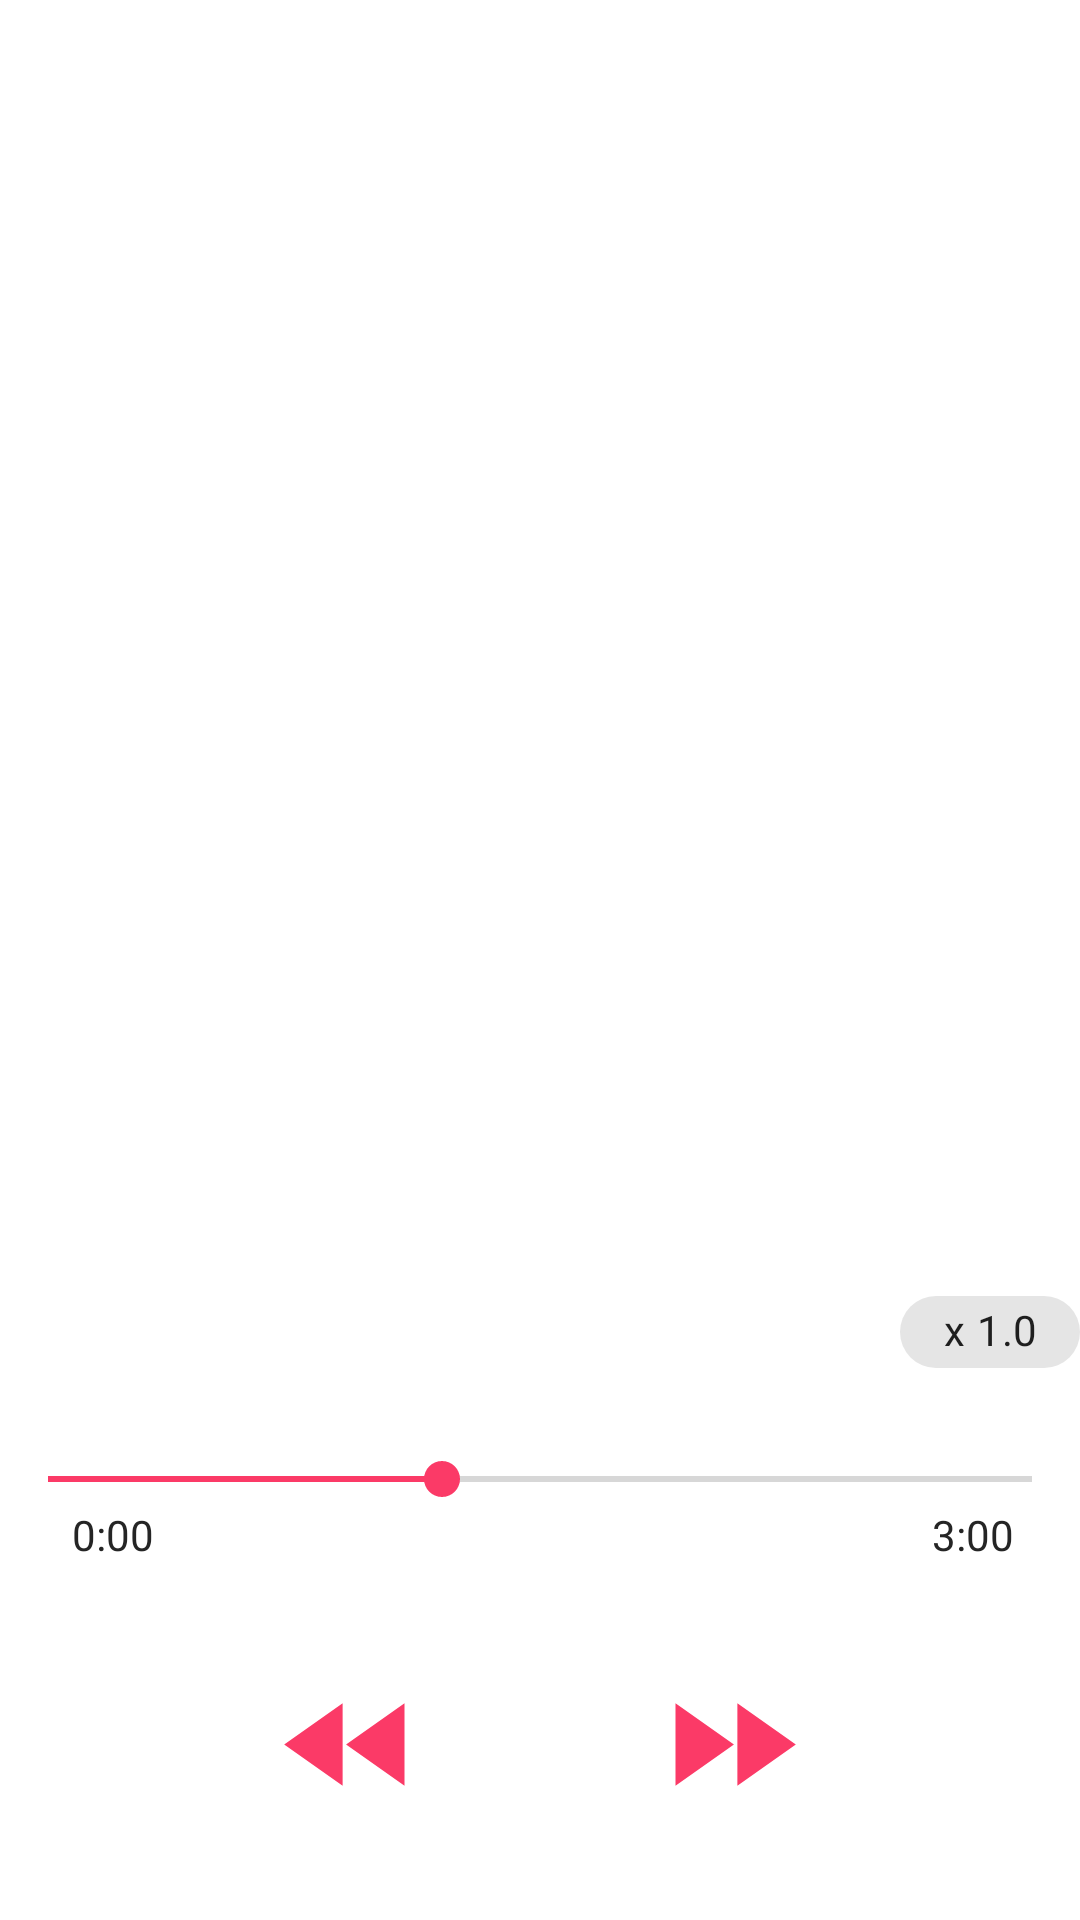

Locate icon controls on the screen. Image size 1080 x 1920, boxes as BBox(x1, y1, x2, y2).
back rewind: BBox(284, 1703, 405, 1786)
forward rewind: BBox(675, 1703, 796, 1786)
